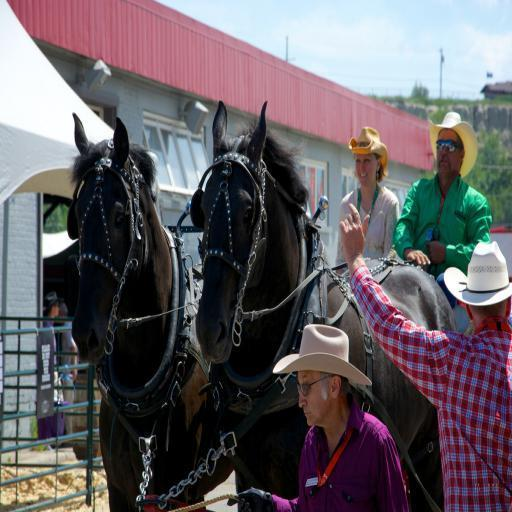horse: (194, 102, 458, 512), (70, 112, 238, 512)
